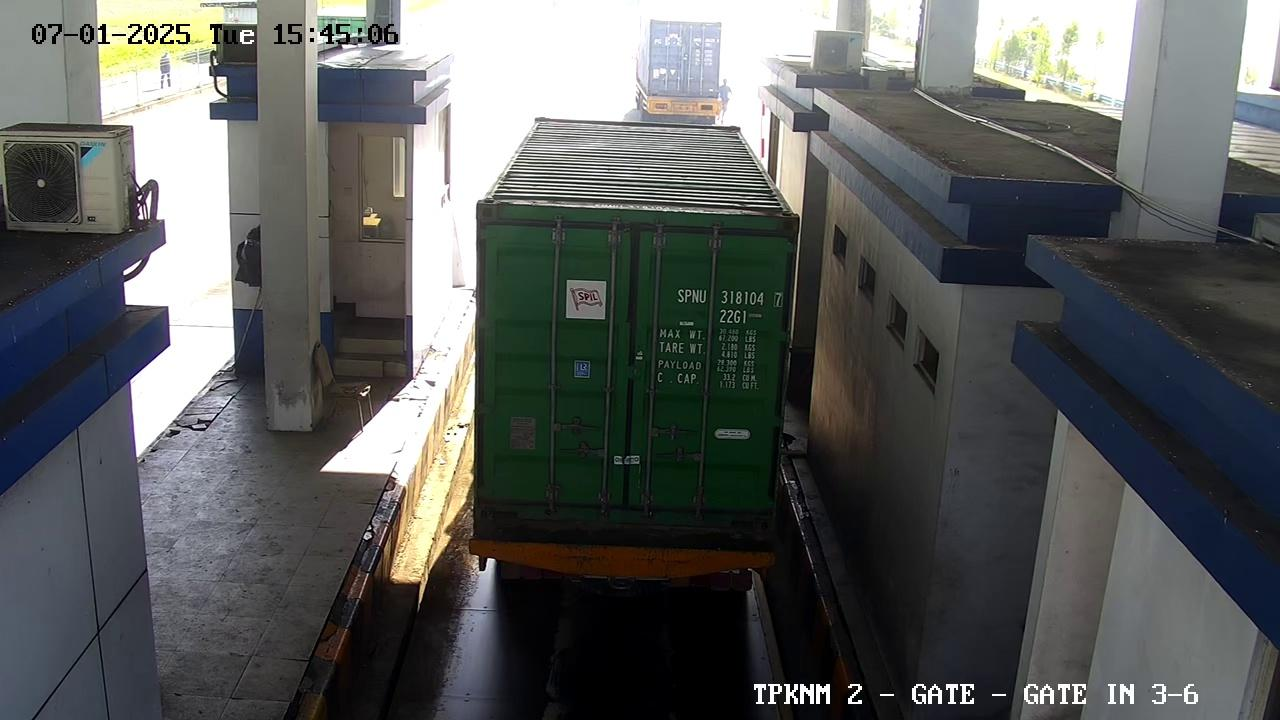Container_ID: (666, 285, 797, 311)
